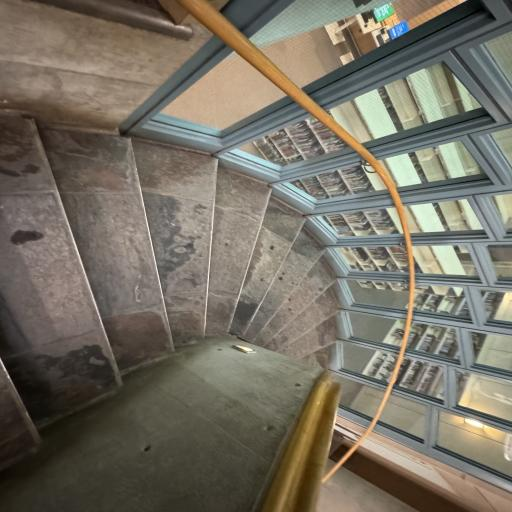Stairs: (0, 114, 340, 467)
